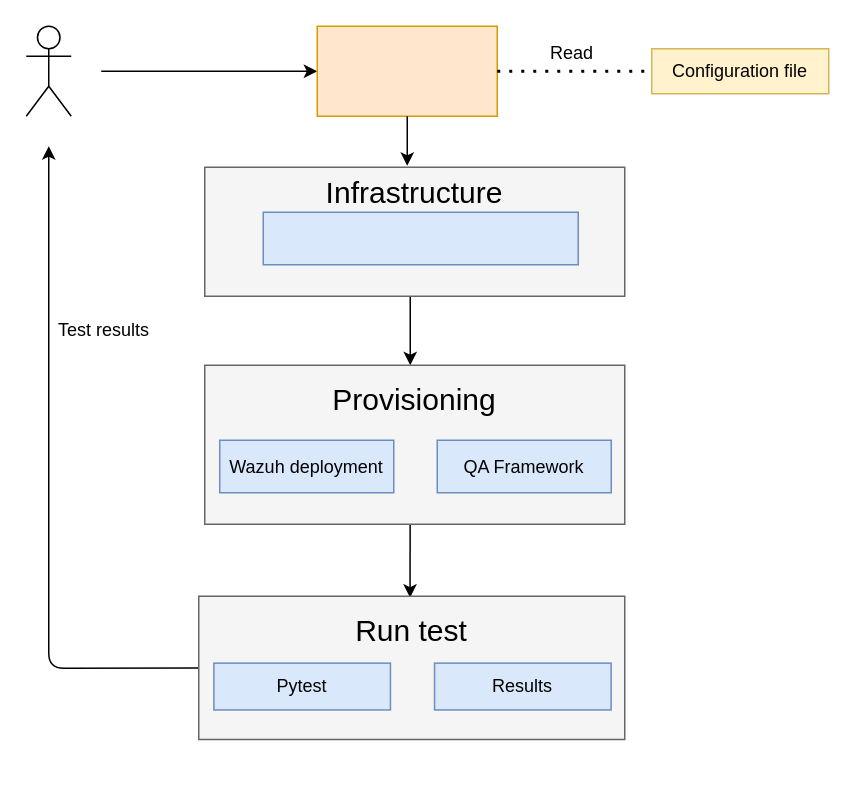
Image size: 855x797. Some labels were removed from this diagram. Each missing label, with the box of its shape:
QACTL: (316, 25, 497, 116)
User: (25, 25, 71, 116)
Vagrant - Docker: (262, 211, 578, 265)
